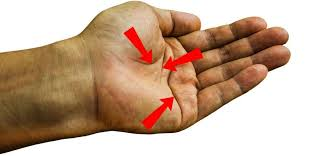palm: (114, 25, 190, 123)
